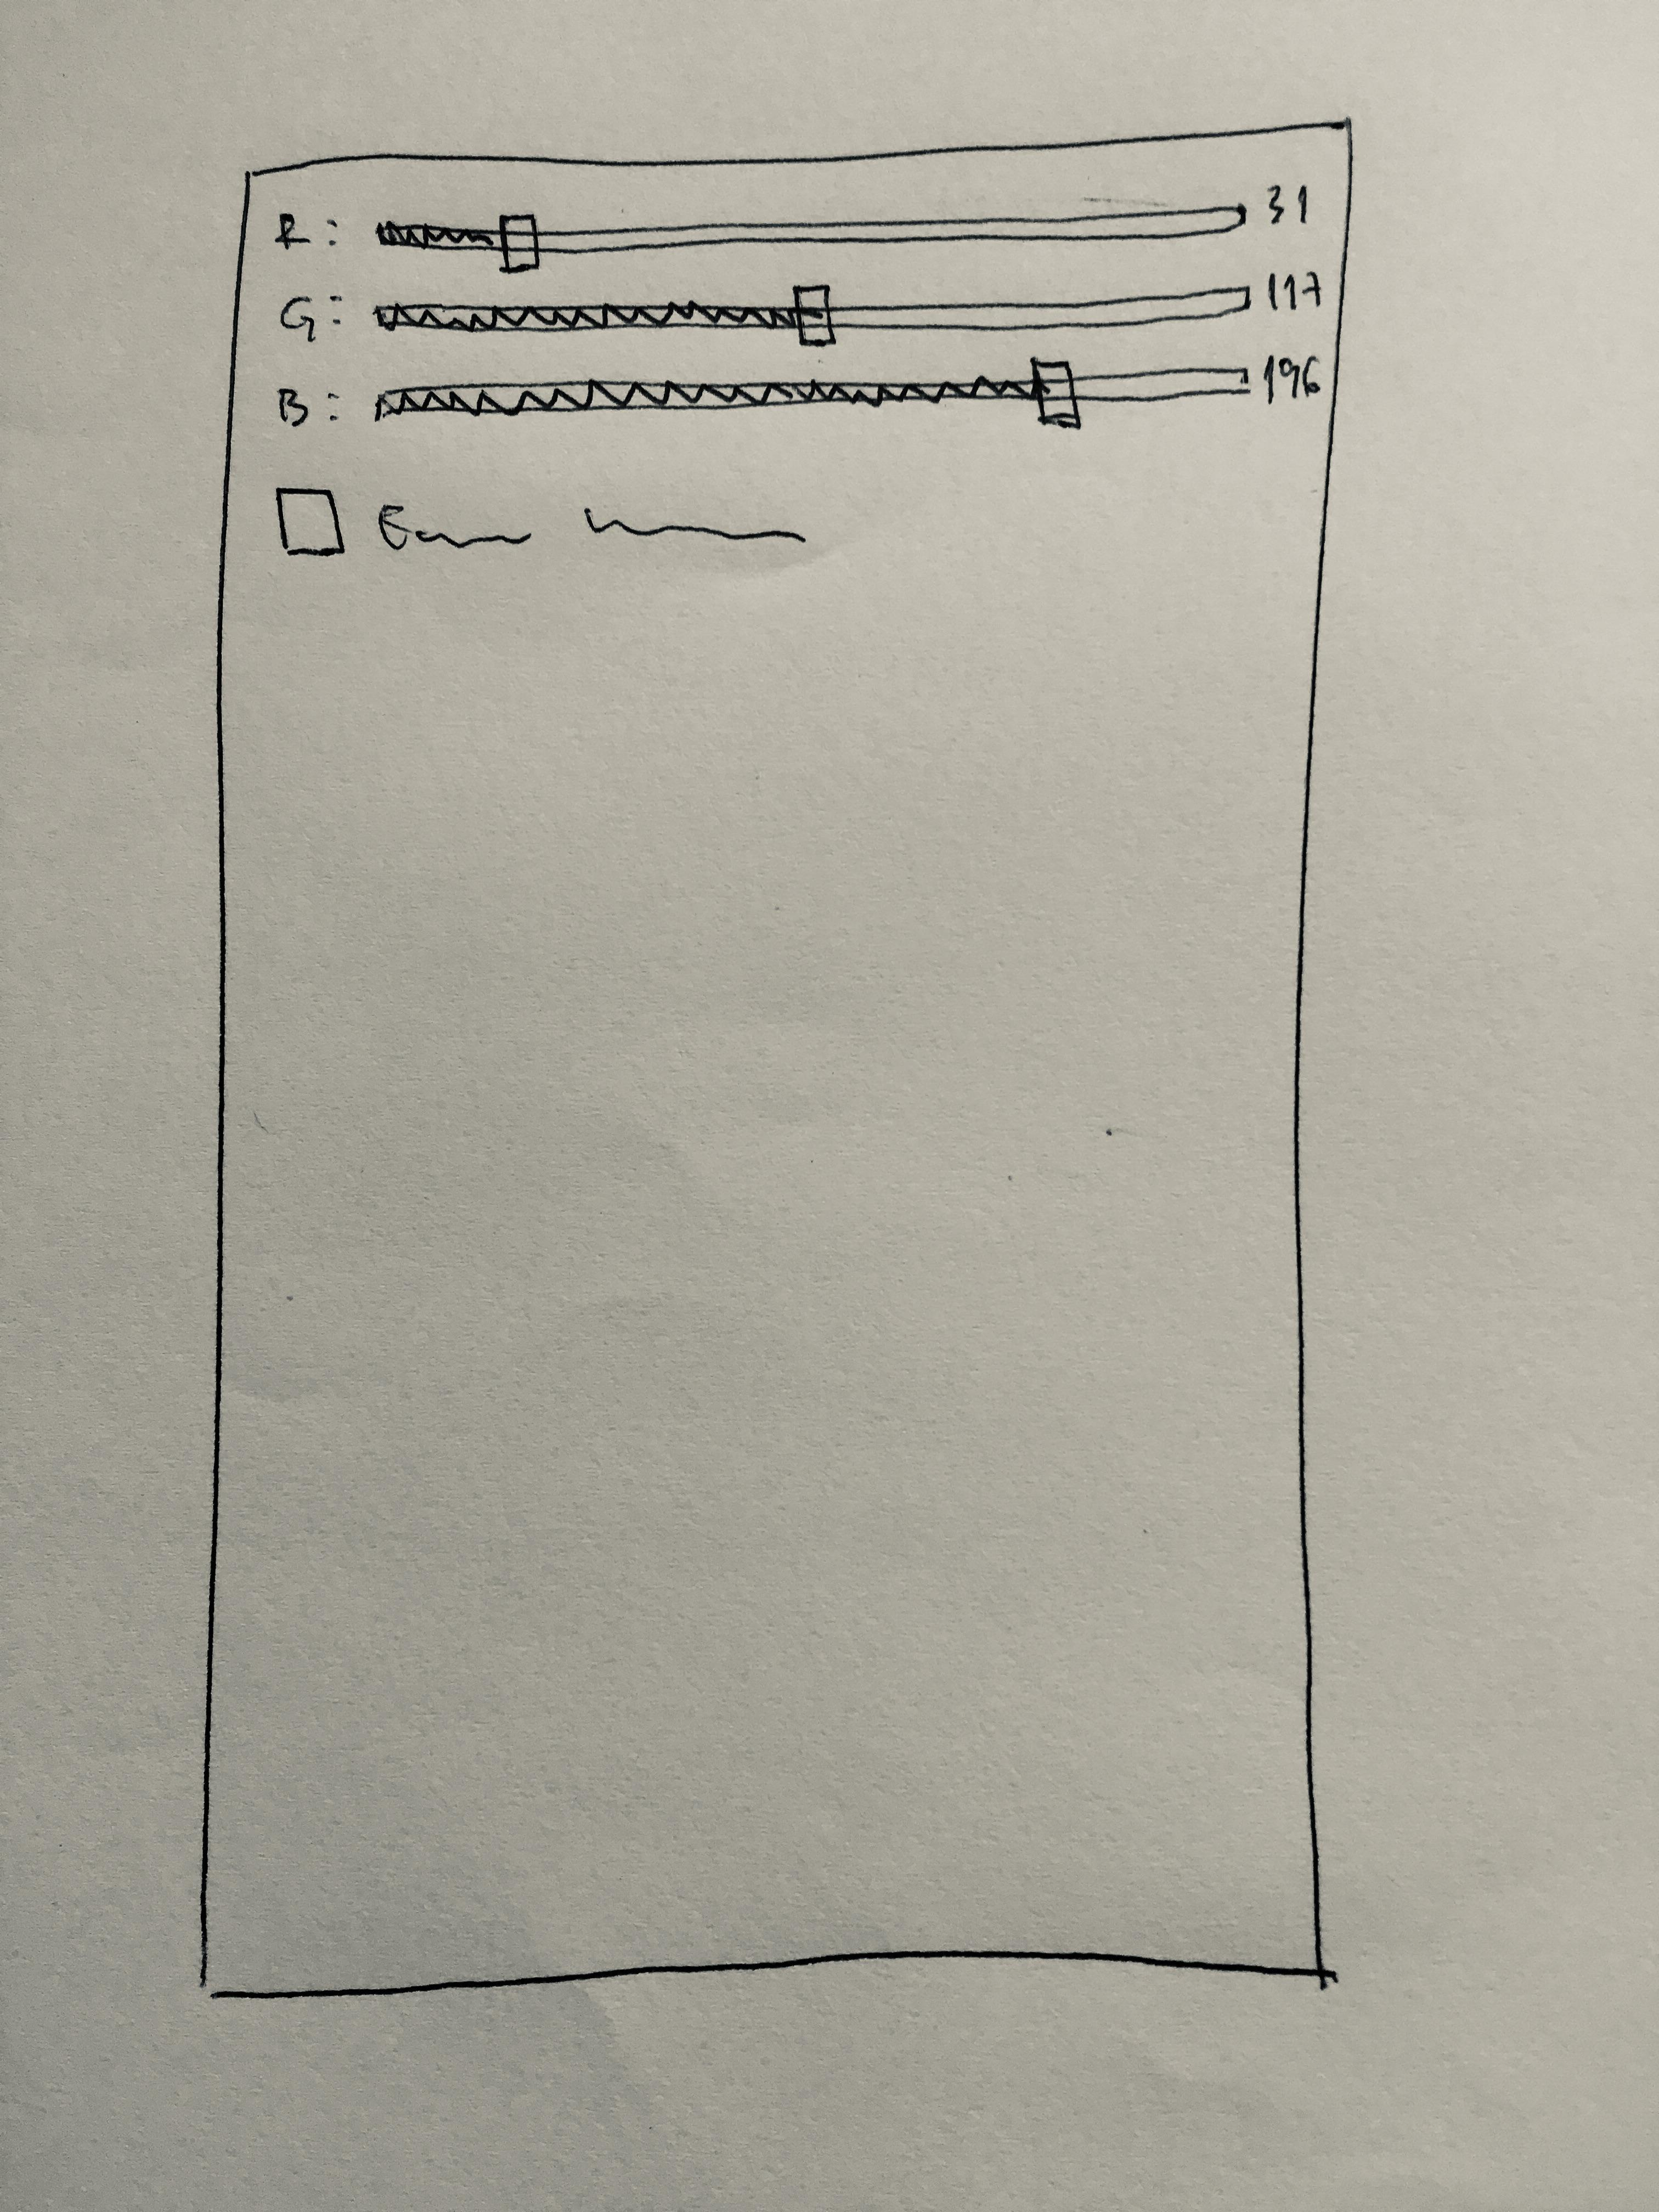CheckBox: (272, 482, 809, 557)
Label: (272, 383, 345, 432), (275, 291, 343, 341), (1262, 354, 1321, 406), (1262, 179, 1314, 228), (277, 207, 338, 247), (1265, 270, 1323, 312)
Screen: (195, 122, 1352, 2003)
Slider: (373, 355, 1249, 428), (375, 206, 1246, 272), (373, 282, 1251, 345)
